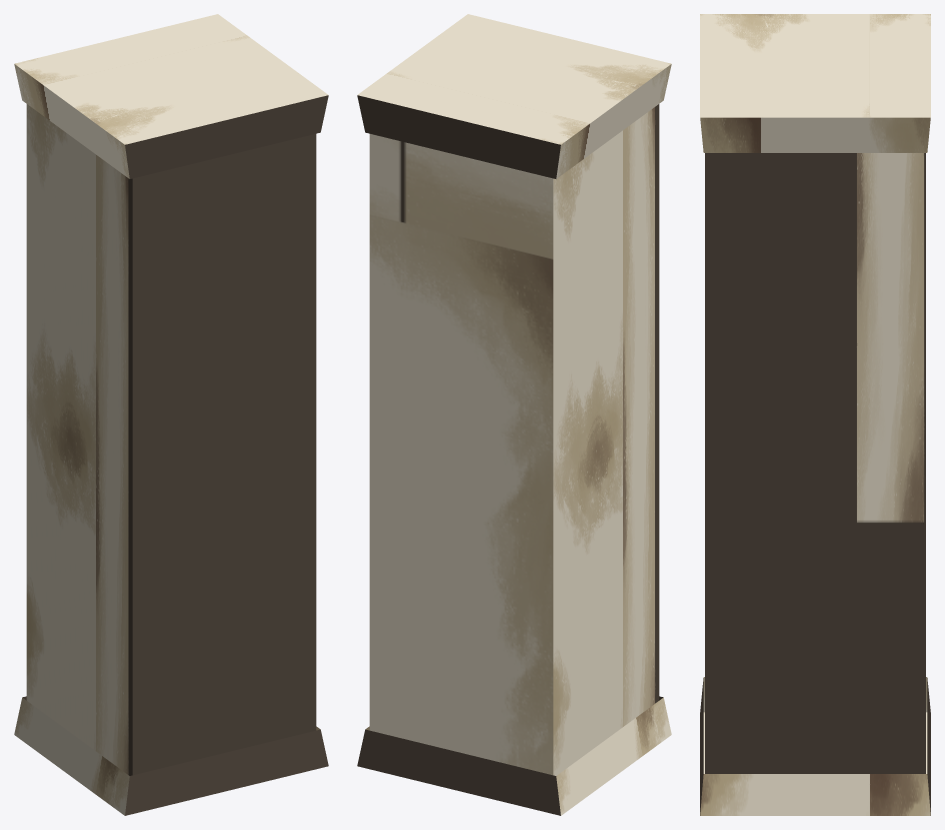
The model's file is dirtypillar.obj.
3 renders of one model, left to right at view 1: azimuth 30°, elevation 25°; view 2: azimuth 150°, elevation 25°; view 3: azimuth 270°, elevation 25°, orthographic. The views are drawn at different scales.
Parts seen in each view (by area): view 1: polySurface15; view 2: polySurface15; view 3: polySurface15.
Boxes of the visible parts, x1,y1,x2,y2 form: polySurface15: (14, 14, 328, 815); polySurface15: (357, 14, 671, 815); polySurface15: (700, 14, 930, 815).
Size of the model in its own units: 1.05 by 3.3 by 0.988.
Materials: 1 (1 with a texture image).
